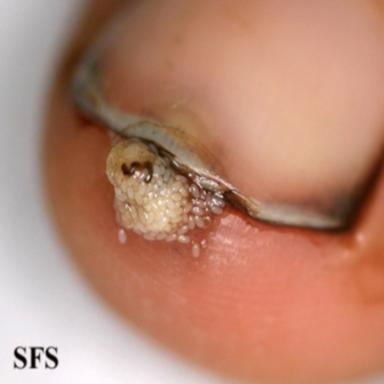Tungiasis: (107, 139, 226, 259)
